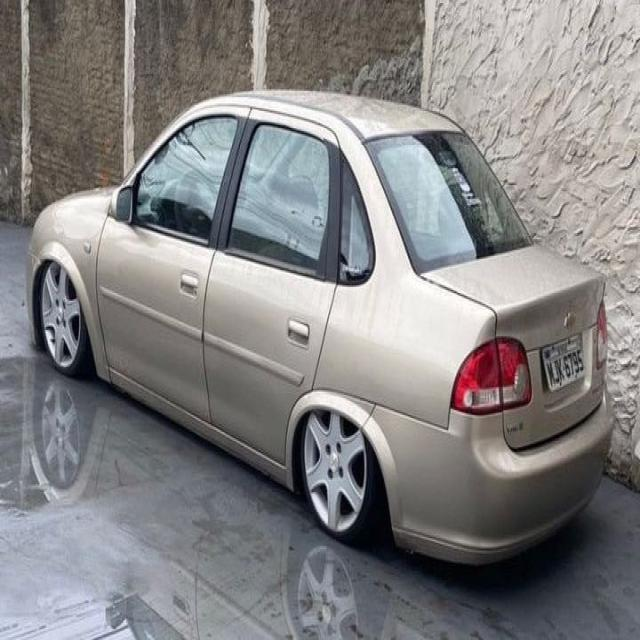Placas: (541, 329, 587, 397)
